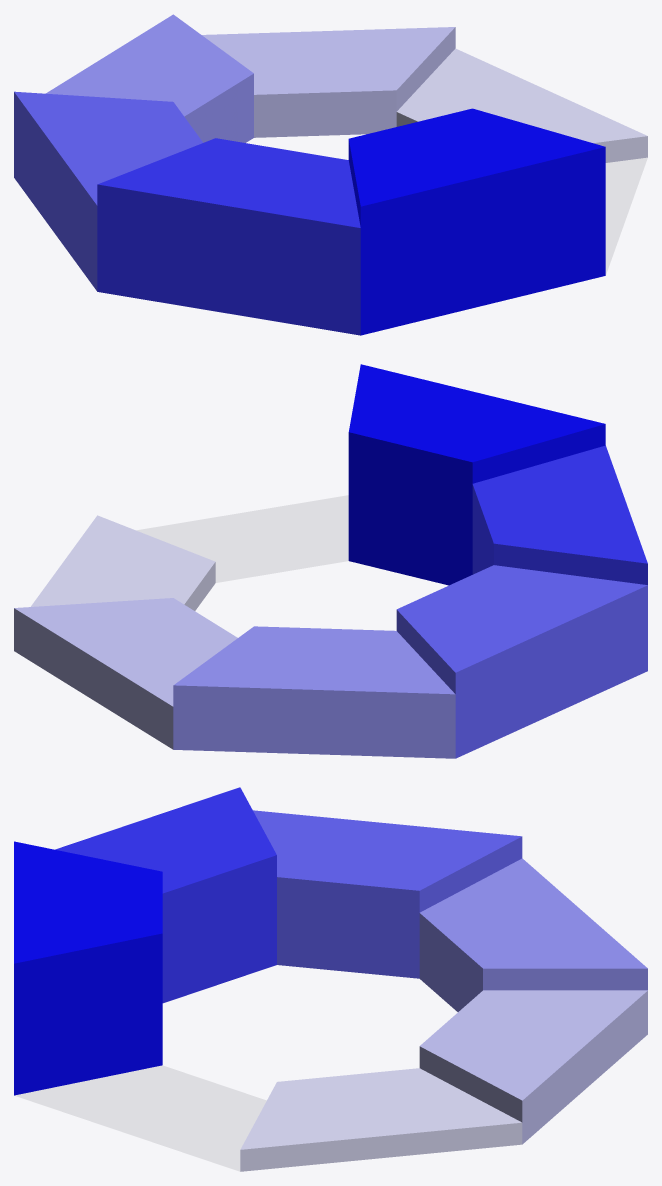
Rendered from WhoIsTheMost3.fbx.
3 views of the same model, one above another, from view 1: azimuth 30°, elevation 25°; view 2: azimuth 150°, elevation 25°; view 3: azimuth 270°, elevation 25° (orthographic). The views are drawn at different scales.
Visible parts, largest first — view 1: Circle; view 2: Circle; view 3: Circle.
Boxes of the visible parts, x1,y1,x2,y2 form: Circle: (14,14,647,335); Circle: (14,364,647,758); Circle: (14,787,647,1171).
Bounding box in the file's own units: 195 × 43.63 × 190.
